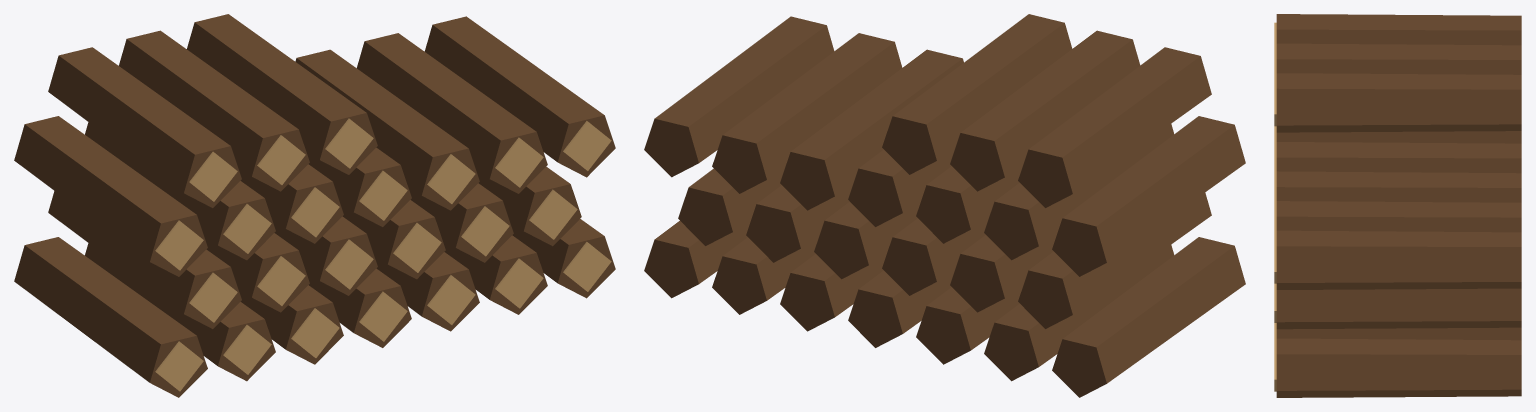
File: pile_firewood_2.glb
3 renders of one model, left to right at view 1: azimuth 30°, elevation 25°; view 2: azimuth 150°, elevation 25°; view 3: azimuth 270°, elevation 25°, orthographic. The views are drawn at different scales.
Parts seen in each view (by area): view 1: pile_firewood_2; view 2: pile_firewood_2; view 3: pile_firewood_2.
Boxes of the visible parts, x1,y1,x2,y2 form: pile_firewood_2: (14, 14, 615, 397); pile_firewood_2: (644, 14, 1245, 397); pile_firewood_2: (1274, 14, 1521, 397).
Bounding box in the file's own units: 1.37 × 0.6728 × 0.706.
